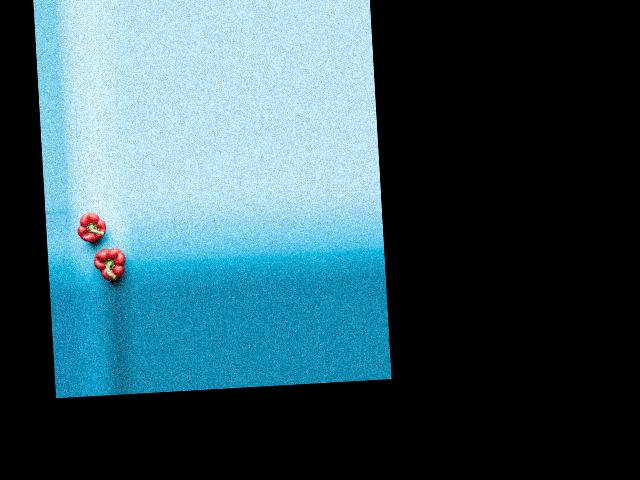bell_pepper: (89, 241, 126, 285)
